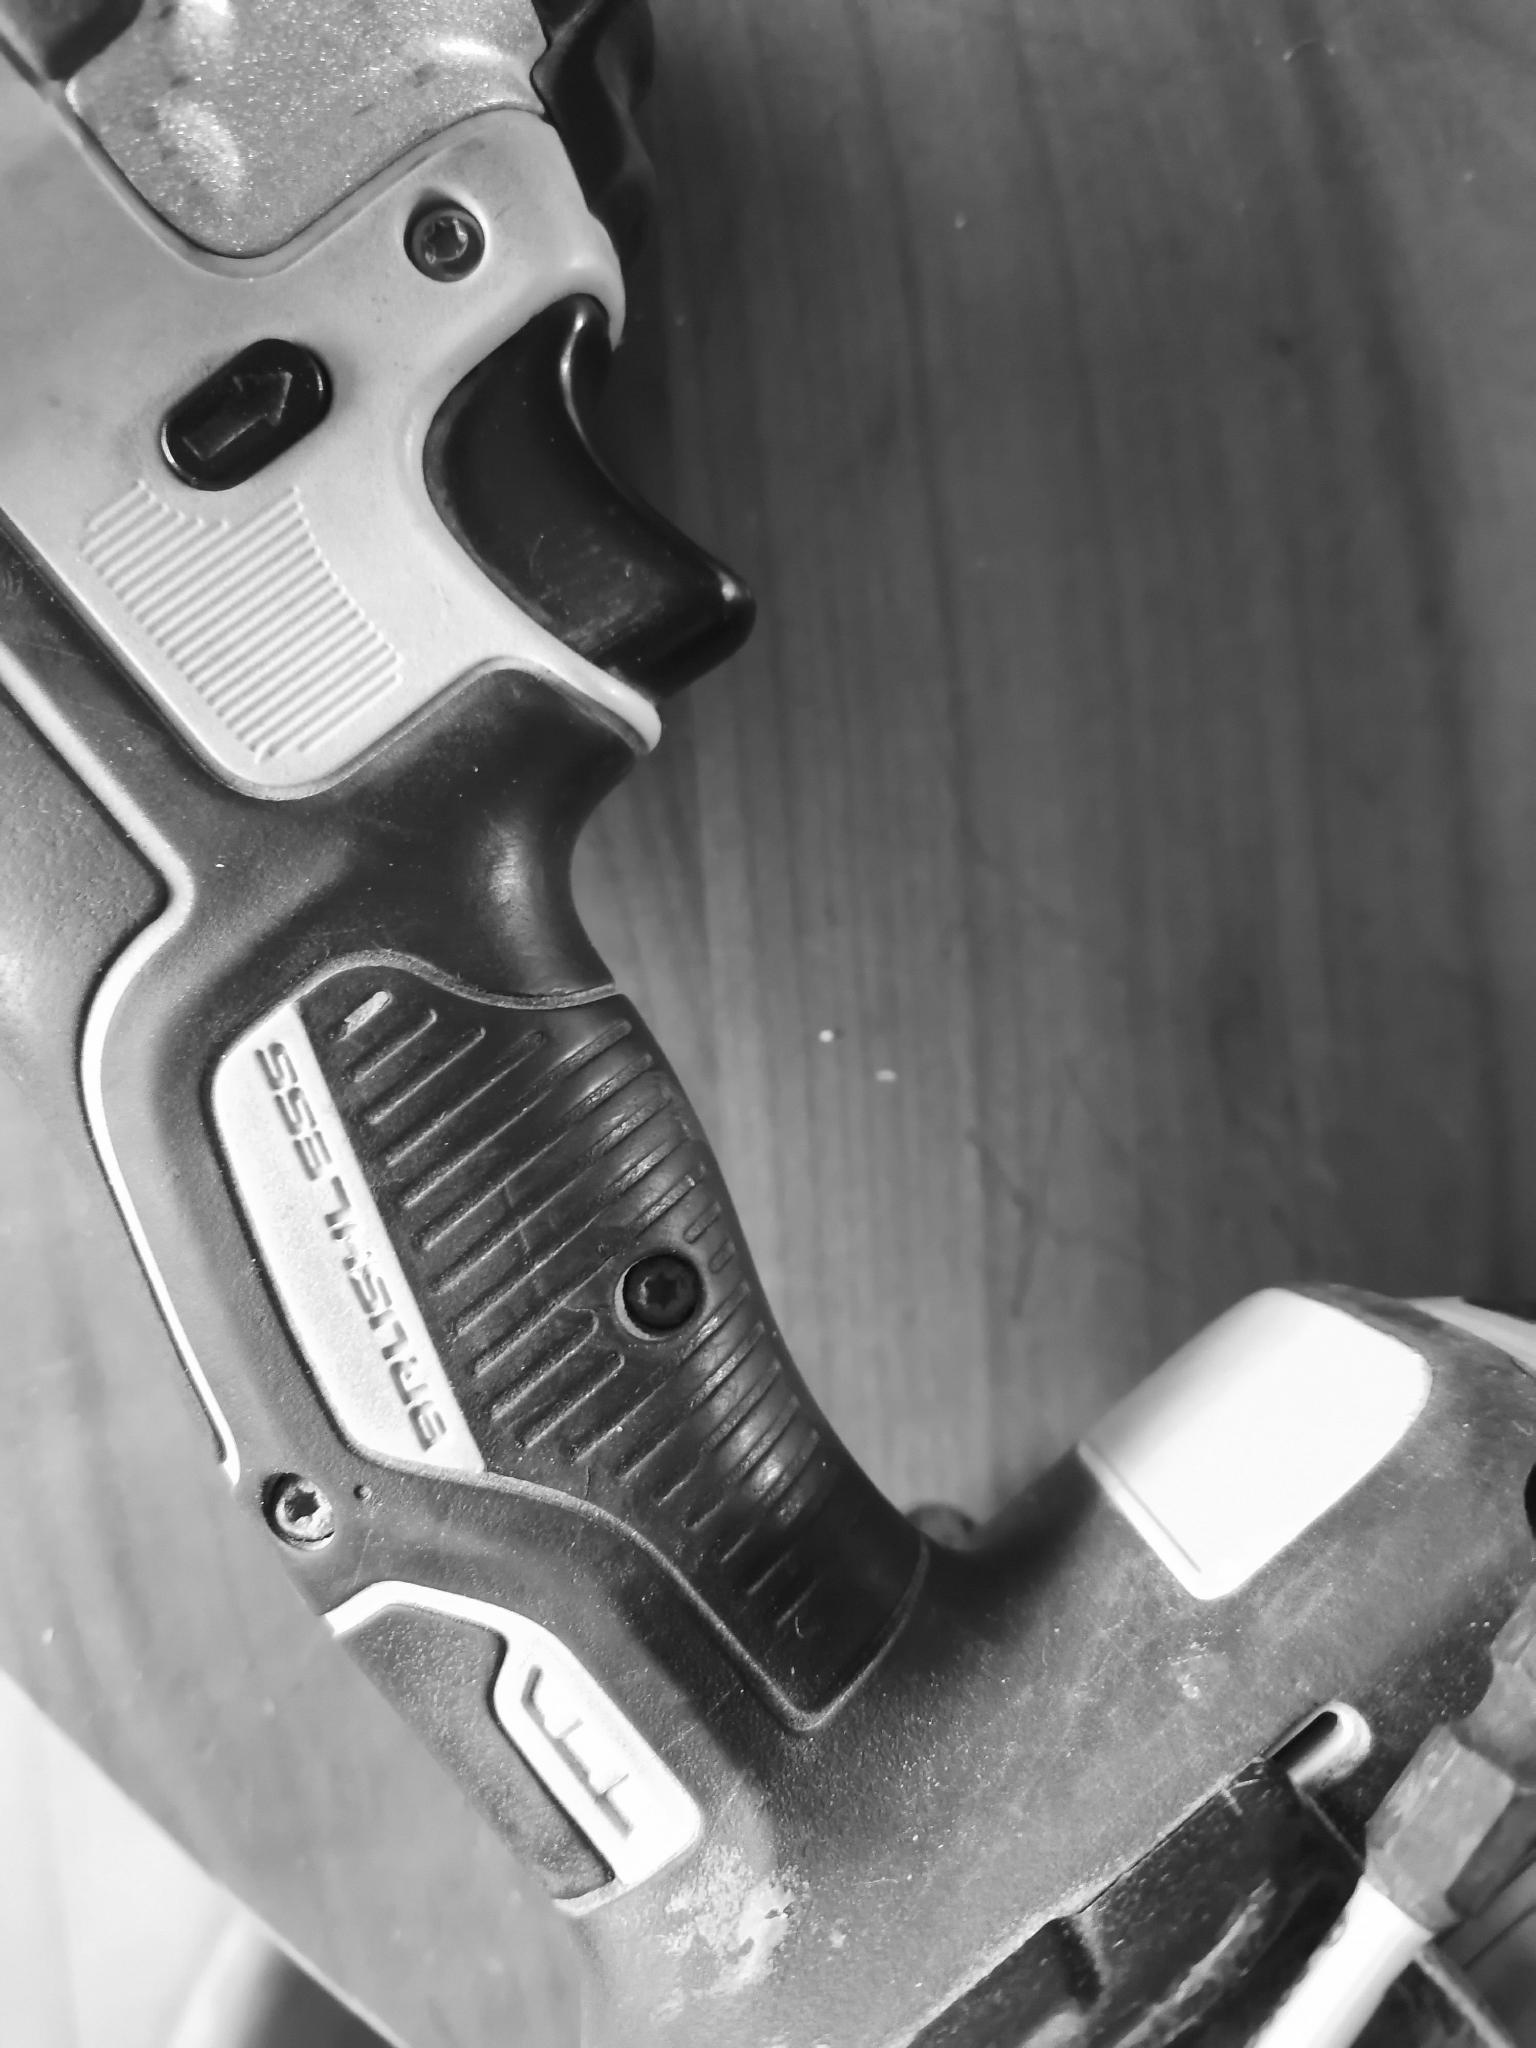torx: (608, 1248, 713, 1345), (252, 1464, 350, 1556)
